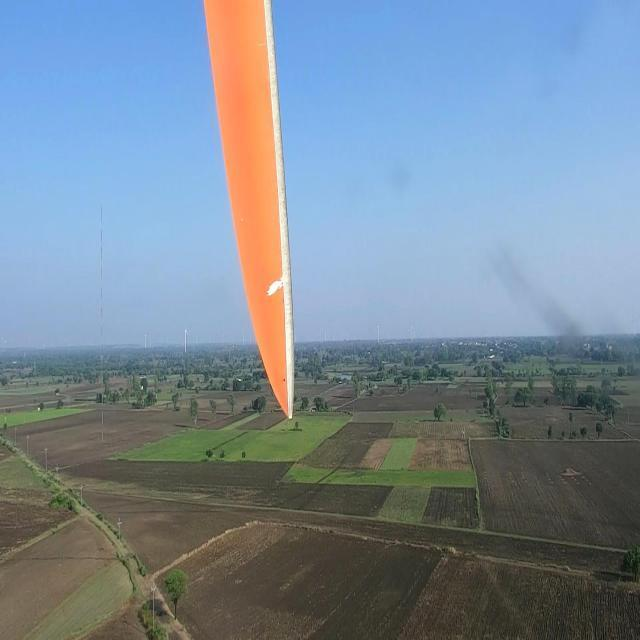PU-tape: (265, 271, 283, 300), (241, 219, 243, 221)
